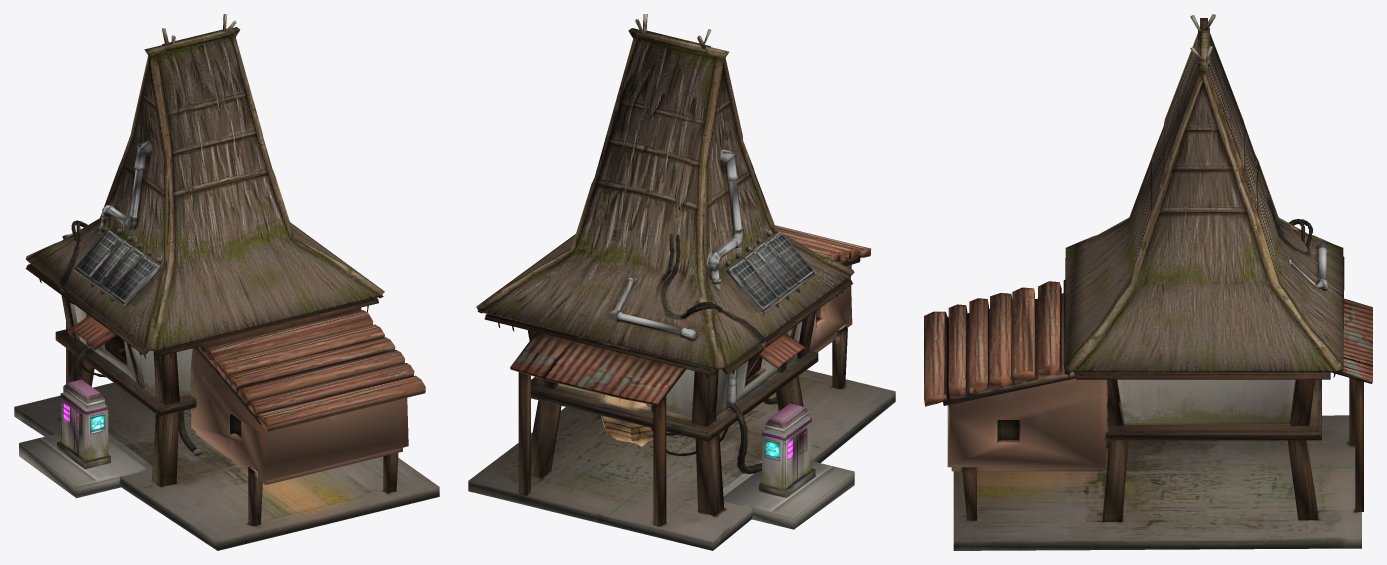
File: uma_lulik.glb
3 views of the same model, side by side, from view 1: azimuth 30°, elevation 25°; view 2: azimuth 150°, elevation 25°; view 3: azimuth 270°, elevation 25° (orthographic). The views are drawn at different scales.
Visible parts, largest first — view 1: Body; view 2: Body; view 3: Body.
Part boxes in pixels (<box>): Body: <box>14,14,439,550</box>; Body: <box>468,14,895,550</box>; Body: <box>924,14,1372,550</box>.
Bounding box in the file's own units: 8 × 11.71 × 10.48.
1 material, 1 textured.
